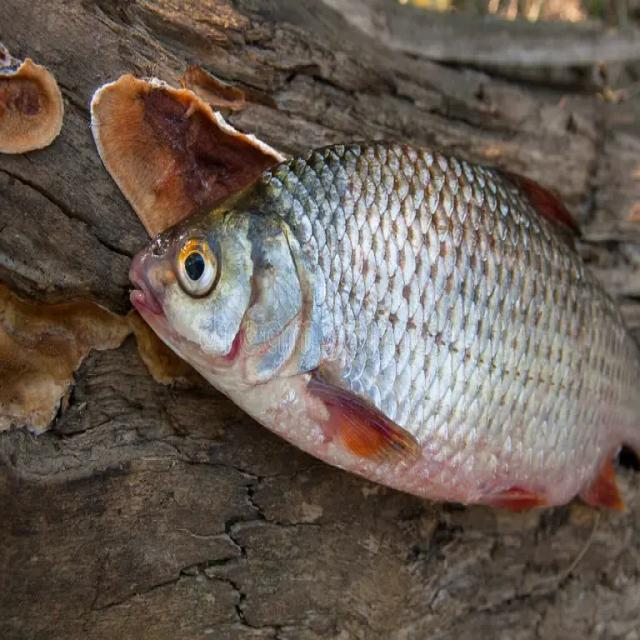Common carp: (127, 139, 639, 512)
